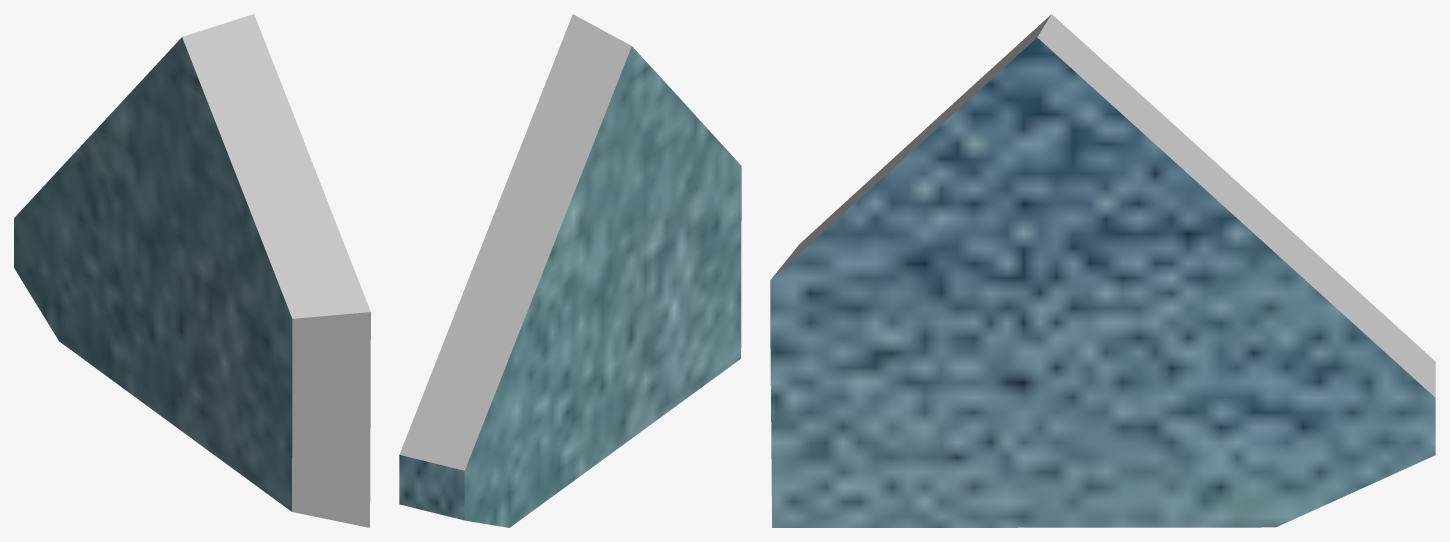
3 views of the same model, side by side, from view 1: azimuth 30°, elevation 25°; view 2: azimuth 150°, elevation 25°; view 3: azimuth 270°, elevation 25° (orthographic). The views are drawn at different scales.
Visible parts, largest first — view 1: Cube_cell.018_Mesh.018; view 2: Cube_cell.018_Mesh.018; view 3: Cube_cell.018_Mesh.018.
Part boxes in pixels (<box>): Cube_cell.018_Mesh.018: <box>14,14,370,527</box>; Cube_cell.018_Mesh.018: <box>399,14,741,527</box>; Cube_cell.018_Mesh.018: <box>770,14,1435,527</box>.
Bounding box in the file's own units: 0.0832 × 0.5194 × 0.6386.
